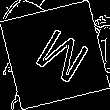M_SW: (22, 21, 88, 89)
